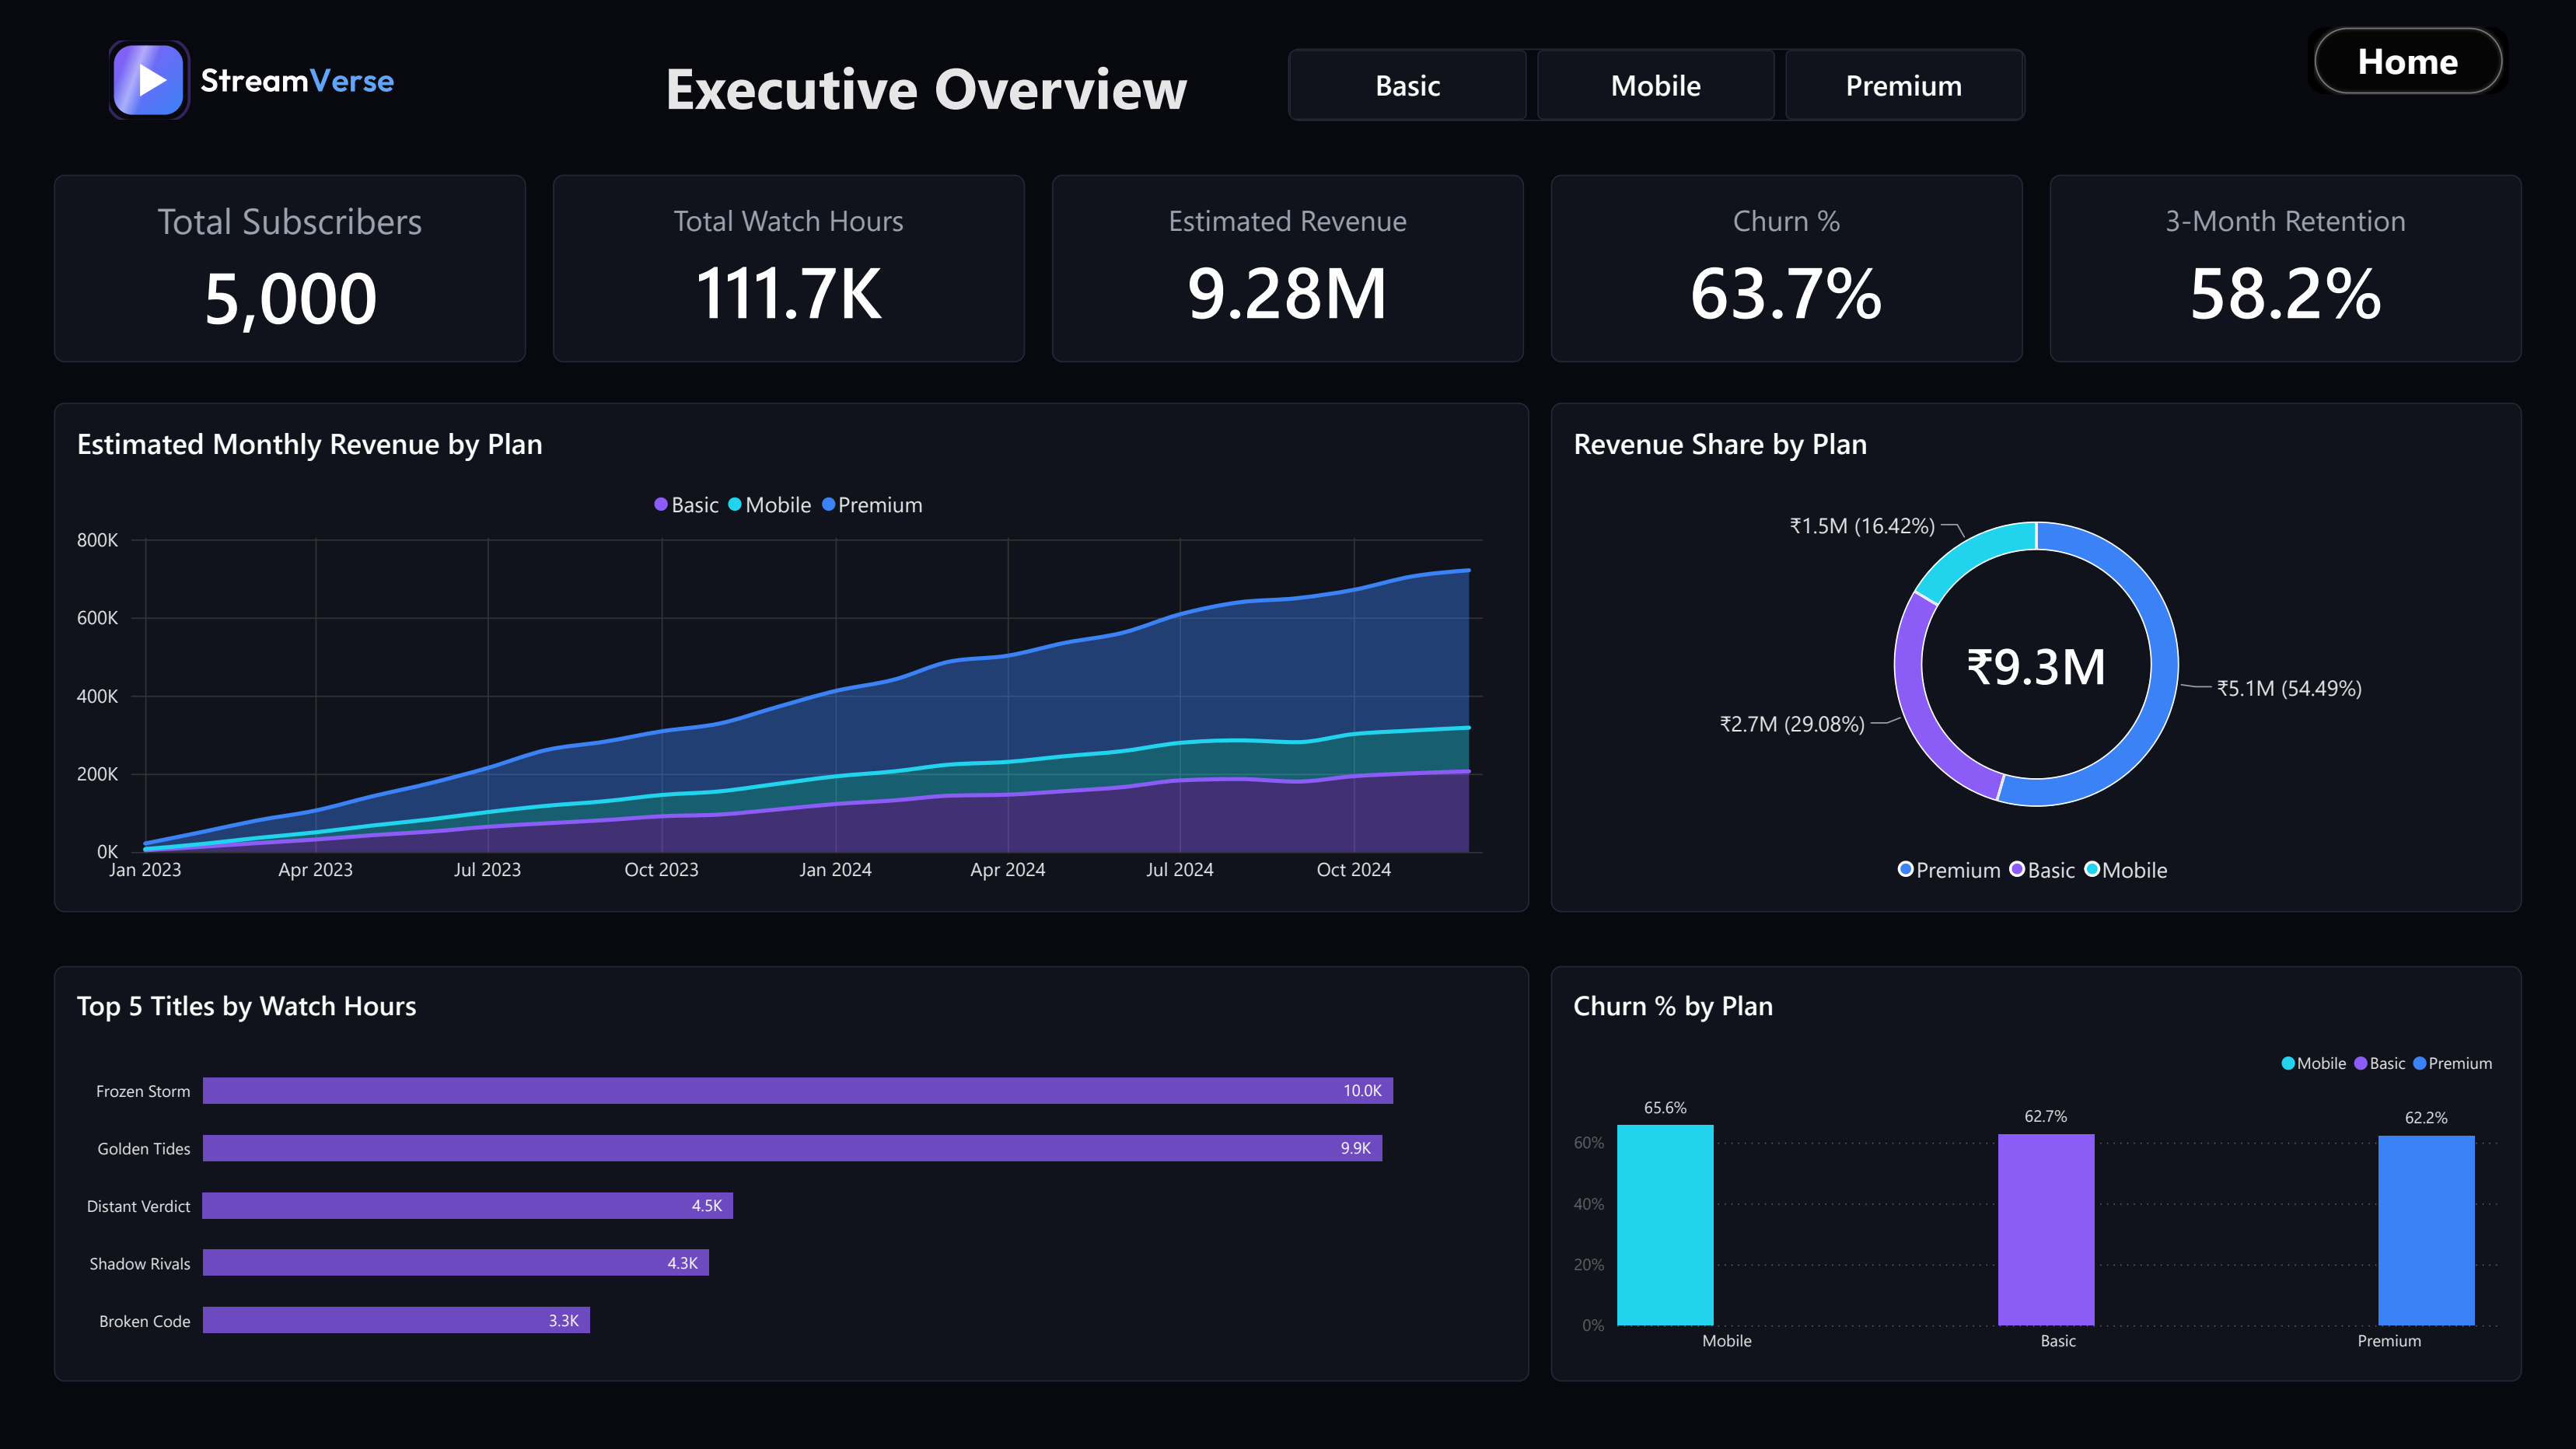

The dashboard page shown, as its layout file describes it:
{"tool":"powerbi","page":{"name":"Executive Overview","canvas":[1920,1080],"ordinal":1},"visuals":[{"type":"image","box":[40,30,300,59],"z":0},{"type":"textbox","box":[495,35,425,60],"z":1000},{"type":"cardVisual","fields":{"Data":["Subscriptions.Total Subscribers"]},"box":[40,130,352,140],"z":2000},{"type":"cardVisual","fields":{"Data":["Date.Total Watch Hours"]},"box":[412,130,352,140],"z":3000},{"type":"cardVisual","fields":{"Data":["Monthly Revenue.Monthly Revenue"]},"box":[784,130,352,140],"z":4000},{"type":"cardVisual","fields":{"Data":["Subscriptions.Churn %"]},"box":[1156,130,352,140],"z":5000},{"type":"cardVisual","fields":{"Data":["Subscriptions.3-Month Retention %"]},"box":[1528,130,352,140],"z":6000},{"type":"actionButton","box":[1720,20,150,50],"z":7000},{"type":"stackedAreaChart","title":"Estimated Monthly Revenue by Plan","fields":{"Category":["Monthly Revenue.month_start"],"Series":["Plan.plan_name"],"Y":["Monthly Revenue.Monthly Revenue"]},"box":[40,300,1100,380],"z":8000},{"type":"donutChart","title":"Revenue Share by Plan","fields":{"Category":["Plan.plan_name"],"Y":["Monthly Revenue.Monthly Revenue"]},"box":[1156,300,724,380],"z":9000},{"type":"advancedSlicerVisual","fields":{"Values":["Plan.plan_name"]},"box":[960,36,550,54],"z":10000},{"type":"clusteredBarChart","title":"Top 5 Titles by Watch Hours","fields":{"Category":["Content.title"],"Y":["Date.Total Watch Hours"]},"box":[40,720,1100,310],"z":11000},{"type":"clusteredColumnChart","title":"Churn % by Plan","fields":{"Category":["Plan.plan_name"],"Series":["Plan.plan_name"],"Y":["Subscriptions.Churn %"]},"box":[1156,720,724,310],"z":12000}]}

Visuals, with their boxes in screenshot pixels (x1, y1, x2, y2), scaled from the page's 1920x1080 canvas onto the 2576x1449 screenshot:
image: bbox=[54, 40, 456, 120]
textbox: bbox=[664, 47, 1234, 127]
cardVisual - Subscriptions.Total Subscribers: bbox=[54, 174, 526, 362]
cardVisual - Date.Total Watch Hours: bbox=[553, 174, 1025, 362]
cardVisual - Monthly Revenue.Monthly Revenue: bbox=[1052, 174, 1524, 362]
cardVisual - Subscriptions.Churn %: bbox=[1551, 174, 2023, 362]
cardVisual - Subscriptions.3-Month Retention %: bbox=[2050, 174, 2522, 362]
actionButton: bbox=[2308, 27, 2509, 94]
"Estimated Monthly Revenue by Plan" stackedAreaChart: bbox=[54, 403, 1529, 913]
"Revenue Share by Plan" donutChart: bbox=[1551, 403, 2522, 913]
advancedSlicerVisual - Plan.plan_name: bbox=[1288, 48, 2026, 120]
"Top 5 Titles by Watch Hours" clusteredBarChart: bbox=[54, 966, 1529, 1382]
"Churn % by Plan" clusteredColumnChart: bbox=[1551, 966, 2522, 1382]
